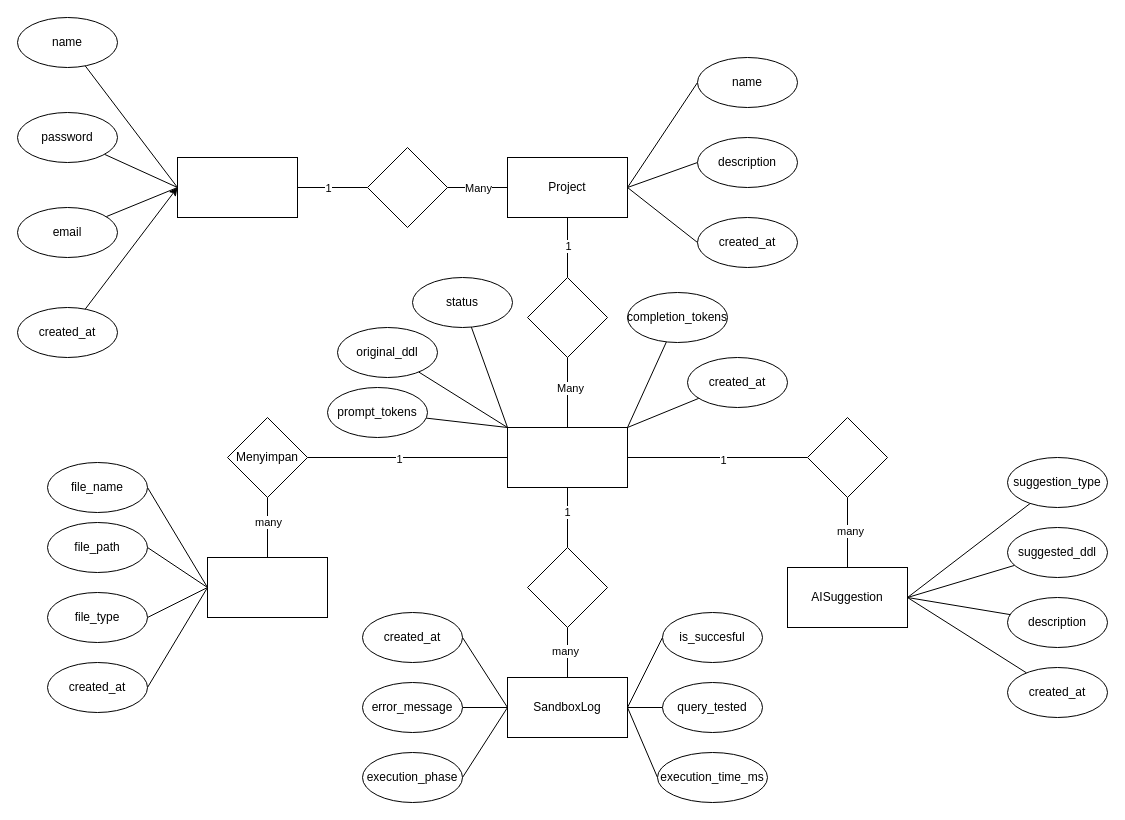
This 1125x820 diagram has some shape labels left out. The shapes that lost their labels are listed below. From the top down, each one's centre as x and y in pixels, then its label:
At pixel 237 187: "User".
At pixel 407 187: "Membuat".
At pixel 567 317: "Menjalankan".
At pixel 567 457: "AnalysisJob".
At pixel 847 457: "memberikan".
At pixel 267 587: "JobArtifact".
At pixel 567 587: "Mencatat".
